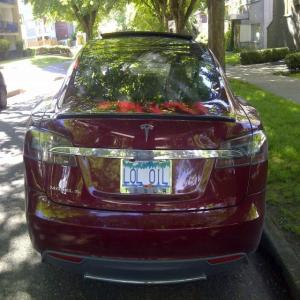Plate: (122, 159, 172, 193)
